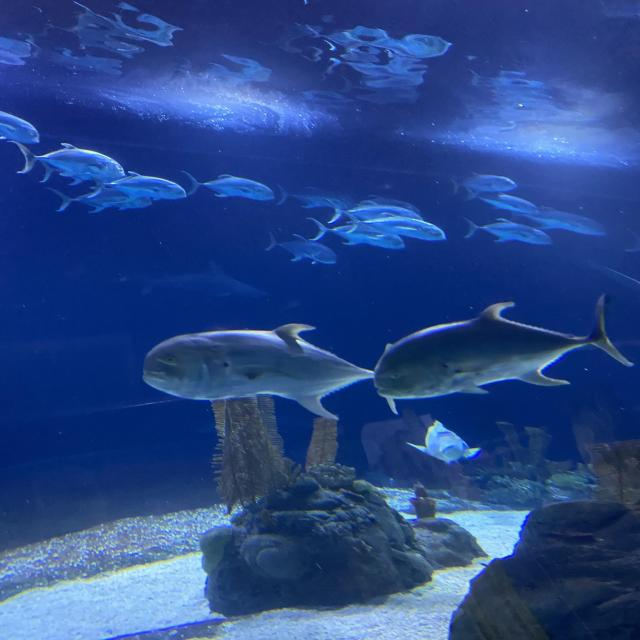fish: (372, 294, 634, 400), (140, 322, 402, 418), (16, 144, 127, 189), (320, 194, 424, 230), (305, 215, 407, 250), (88, 170, 192, 203), (408, 420, 479, 466), (342, 212, 446, 242), (459, 216, 550, 250), (183, 171, 277, 202), (48, 188, 154, 215), (265, 230, 339, 266), (532, 203, 608, 237), (453, 170, 515, 198), (0, 109, 41, 145)
shark: (119, 263, 270, 305)
